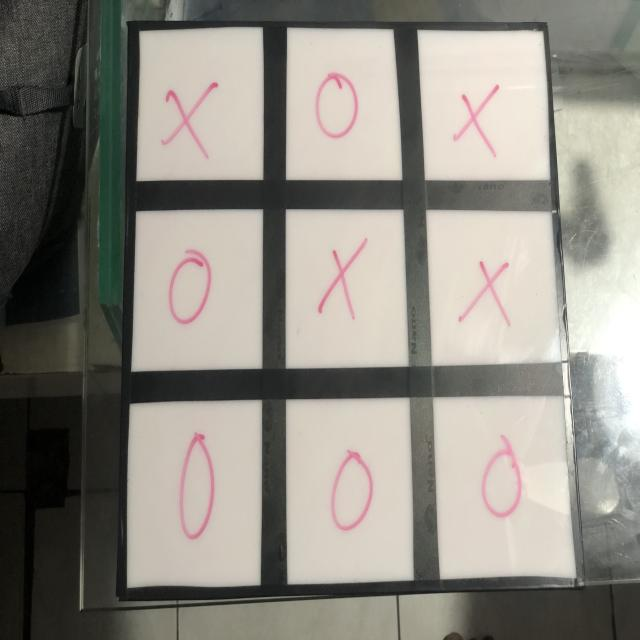o: (174, 432, 226, 545), (475, 439, 532, 527), (313, 70, 365, 151), (331, 452, 376, 537), (168, 251, 215, 332)
table: (104, 11, 584, 600)
x: (162, 76, 222, 167), (315, 238, 379, 321), (458, 250, 520, 333), (453, 82, 503, 157)
